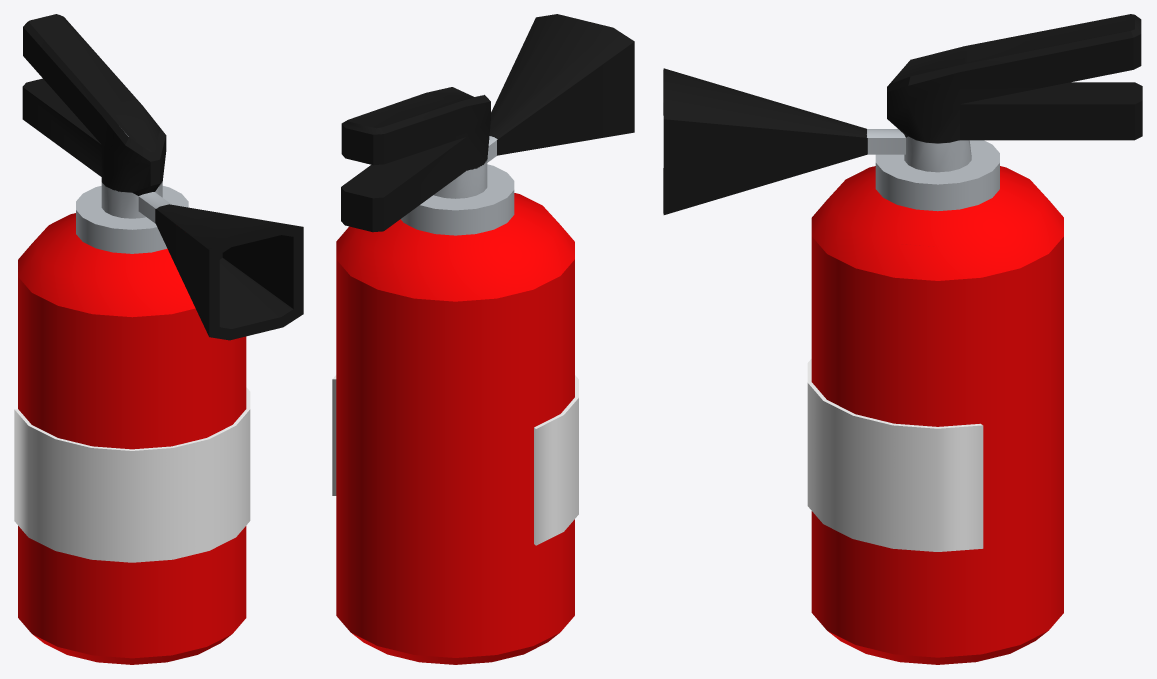
Rendered from fireExtinguisher.FBX.
The picture shows the model from 3 angles, left to right: view 1: azimuth 30°, elevation 25°; view 2: azimuth 150°, elevation 25°; view 3: azimuth 270°, elevation 25°; orthographic projection. The views are drawn at different scales.
Visible parts, largest first — view 1: Cylinder001, Cylinder002; view 2: Cylinder001, Cylinder002; view 3: Cylinder001, Cylinder002.
Boxes of the visible parts, box(x1,y1,x2,y2) form: Cylinder001: box(18, 14, 303, 664); Cylinder002: box(14, 387, 250, 562); Cylinder001: box(336, 14, 634, 664); Cylinder002: box(332, 375, 578, 545); Cylinder001: box(663, 14, 1142, 664); Cylinder002: box(807, 359, 983, 551).
Bounding box in the file's own units: 105 × 191 × 262.
Materials: 2 (2 with a texture image).
